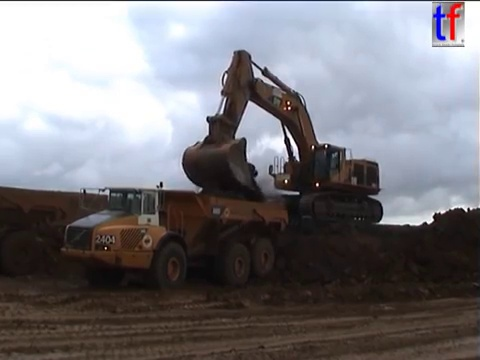excavator: (179, 47, 388, 229)
truck: (58, 179, 292, 291), (1, 184, 159, 279)
